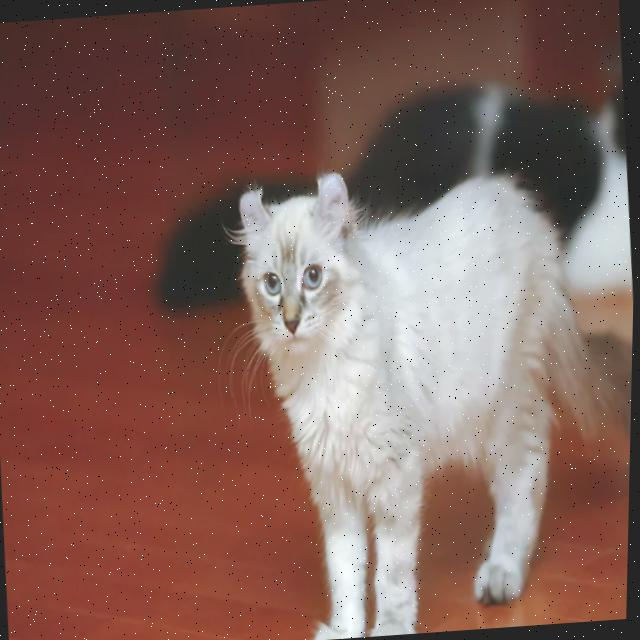American Curl: (222, 142, 638, 640)
